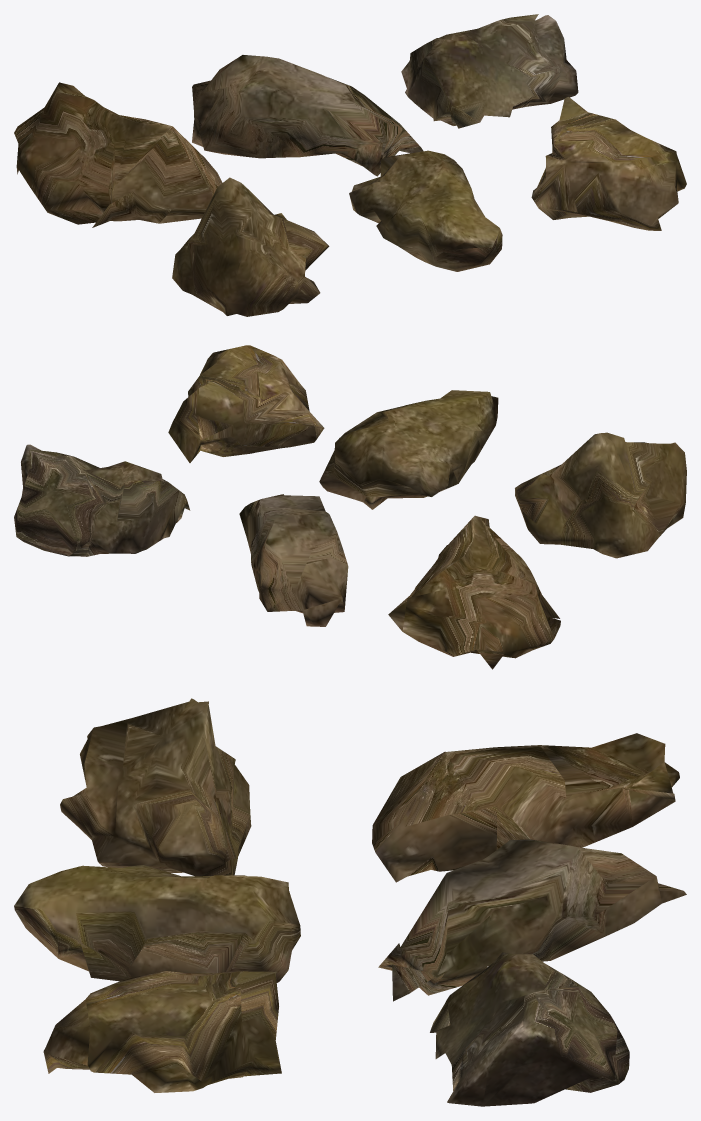
Rendered from rock_moss_set_01_lod2.glb.
3 views of the same model, one above another, from view 1: azimuth 30°, elevation 25°; view 2: azimuth 150°, elevation 25°; view 3: azimuth 270°, elevation 25° (orthographic). The views are drawn at different scales.
Parts seen in each view (by area): view 1: rock_moss_set_01_rock01; view 2: rock_moss_set_01_rock01; view 3: rock_moss_set_01_rock01.
Part boxes in pixels (bbox=[...]): rock_moss_set_01_rock01: bbox=[14, 14, 686, 316]; rock_moss_set_01_rock01: bbox=[14, 345, 686, 669]; rock_moss_set_01_rock01: bbox=[14, 698, 686, 1106].
Bounding box in the file's own units: 7.99 × 1.71 × 6.84.
1 material, 1 textured.
